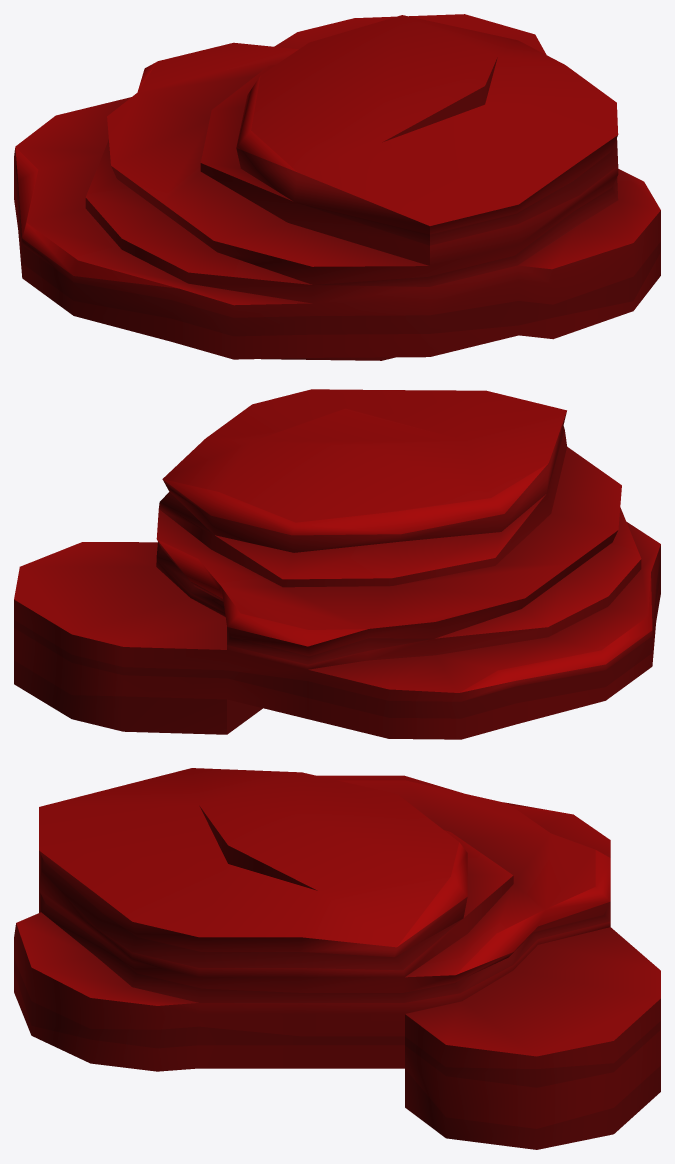
Rendered from geology-rocks-rockflatlayered_v4.fbx.
The picture shows the model from 3 angles, top to bottom: view 1: azimuth 30°, elevation 25°; view 2: azimuth 150°, elevation 25°; view 3: azimuth 270°, elevation 25°; orthographic projection. The views are drawn at different scales.
Parts seen in each view (by area): view 1: RockFlatLayered_v4; view 2: RockFlatLayered_v4; view 3: RockFlatLayered_v4.
Boxes of the visible parts, bbox=[...] form: RockFlatLayered_v4: bbox=[14, 14, 660, 360]; RockFlatLayered_v4: bbox=[14, 389, 660, 739]; RockFlatLayered_v4: bbox=[14, 768, 660, 1149].
Bounding box in the file's own units: 7.46 × 2.52 × 7.21.
